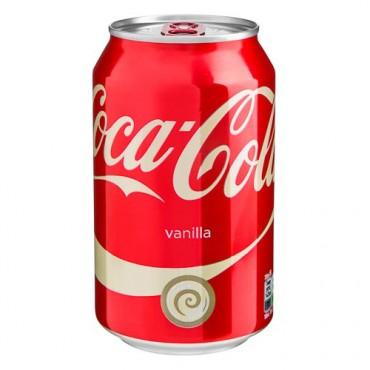can: (89, 10, 279, 352)
